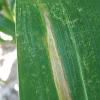Corn leaf blight: (14, 0, 99, 96)
